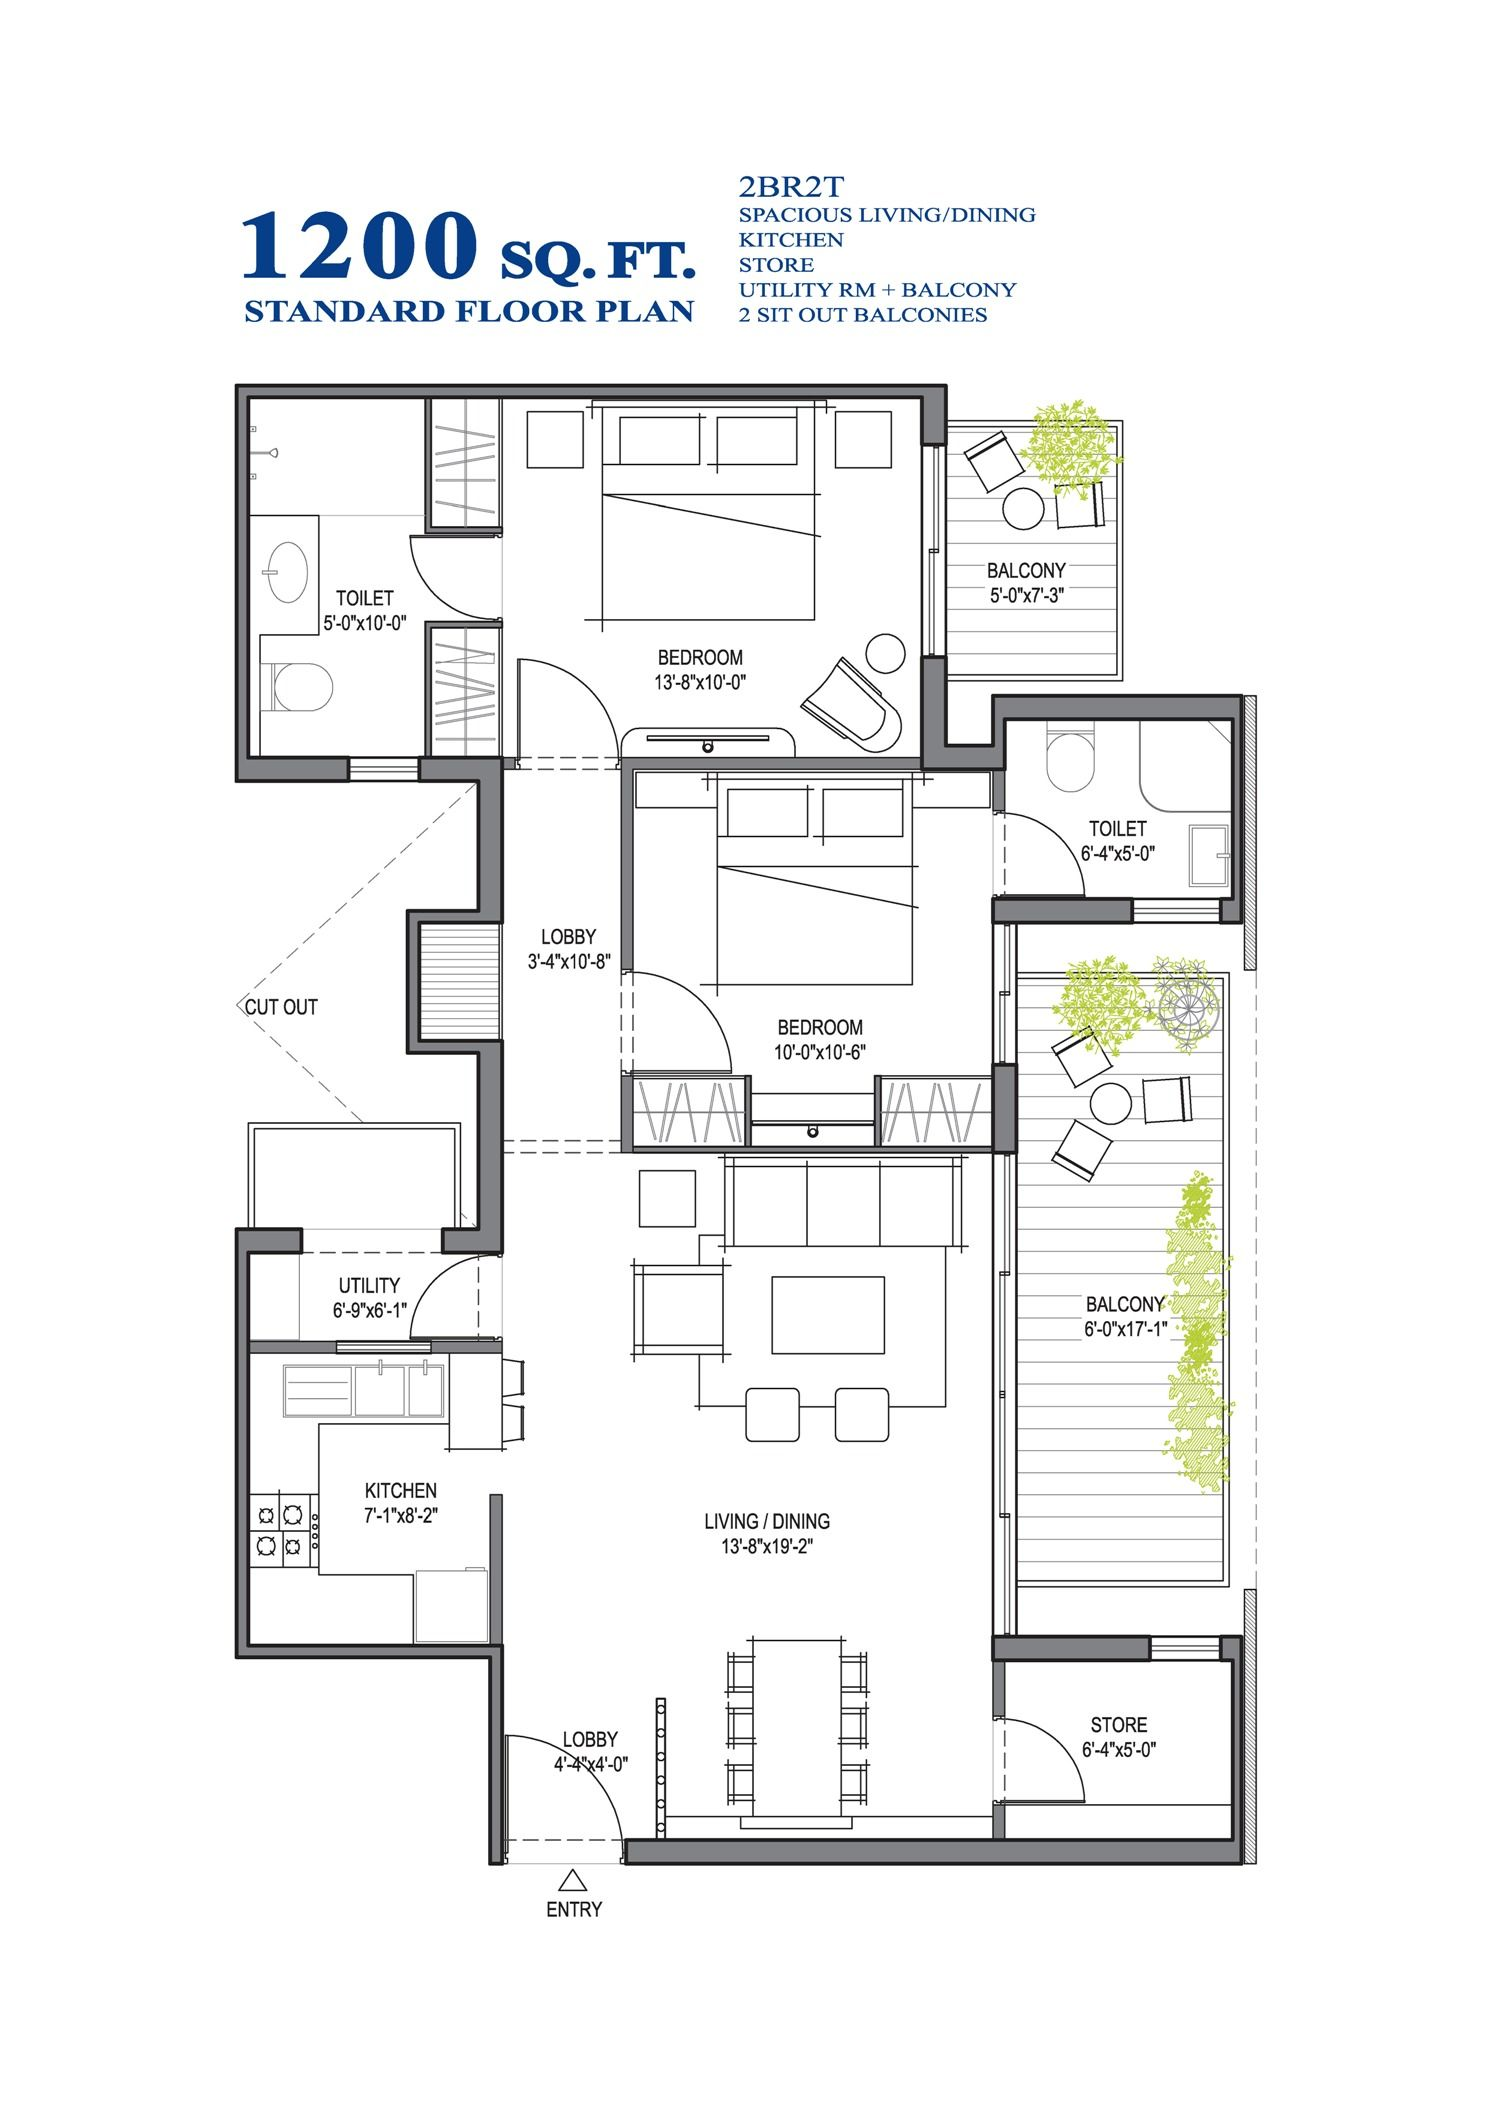window: (986, 1150, 1023, 1639), (915, 441, 950, 659), (986, 917, 1021, 1068), (1129, 893, 1223, 927), (346, 751, 422, 787), (1149, 1630, 1222, 1665), (334, 1337, 431, 1357)
